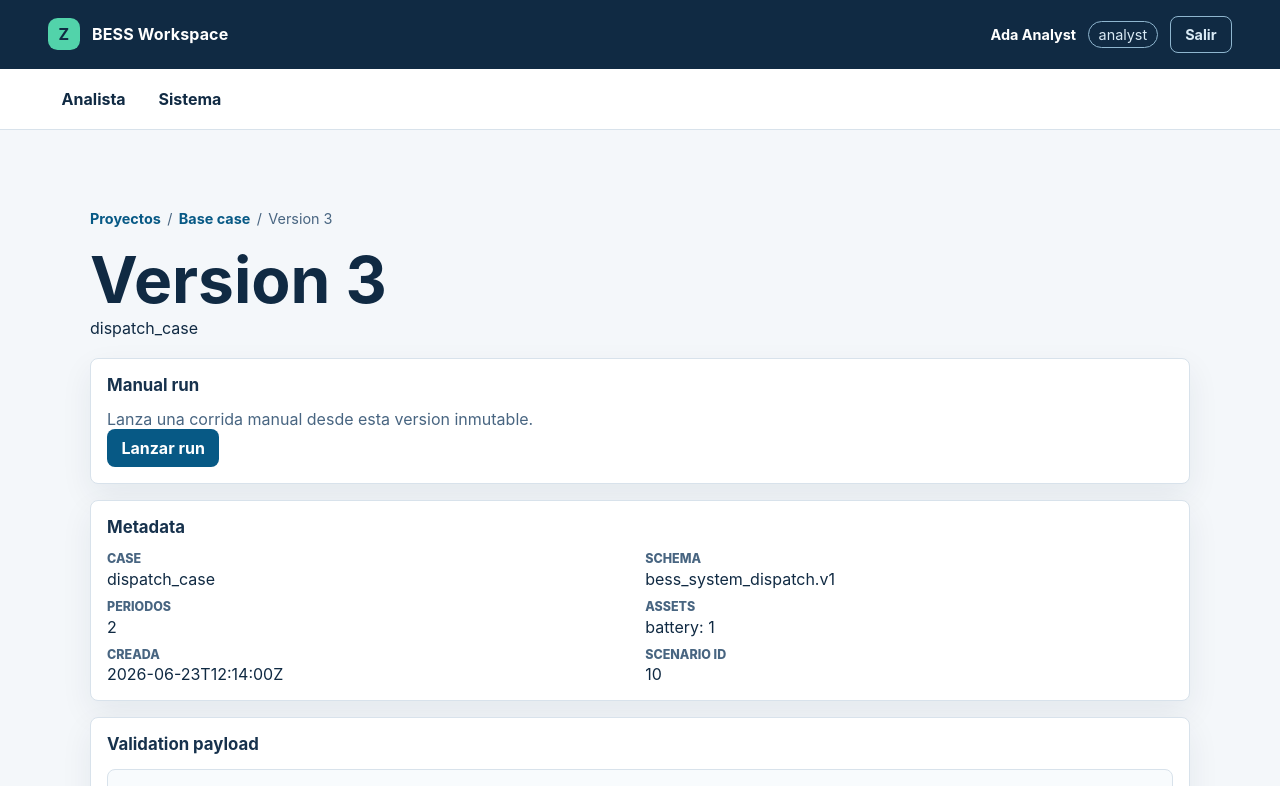
Test case: application shell › launches one manual run from an immutable version and navigates before completion
Check: the heading "Version 3" is shown, box [90,241,387,318]
What coordinates should you click on to do the following:
click the button "Lanzar run"
I would click on:
 (163, 448)
Its box is [107,430,219,467].
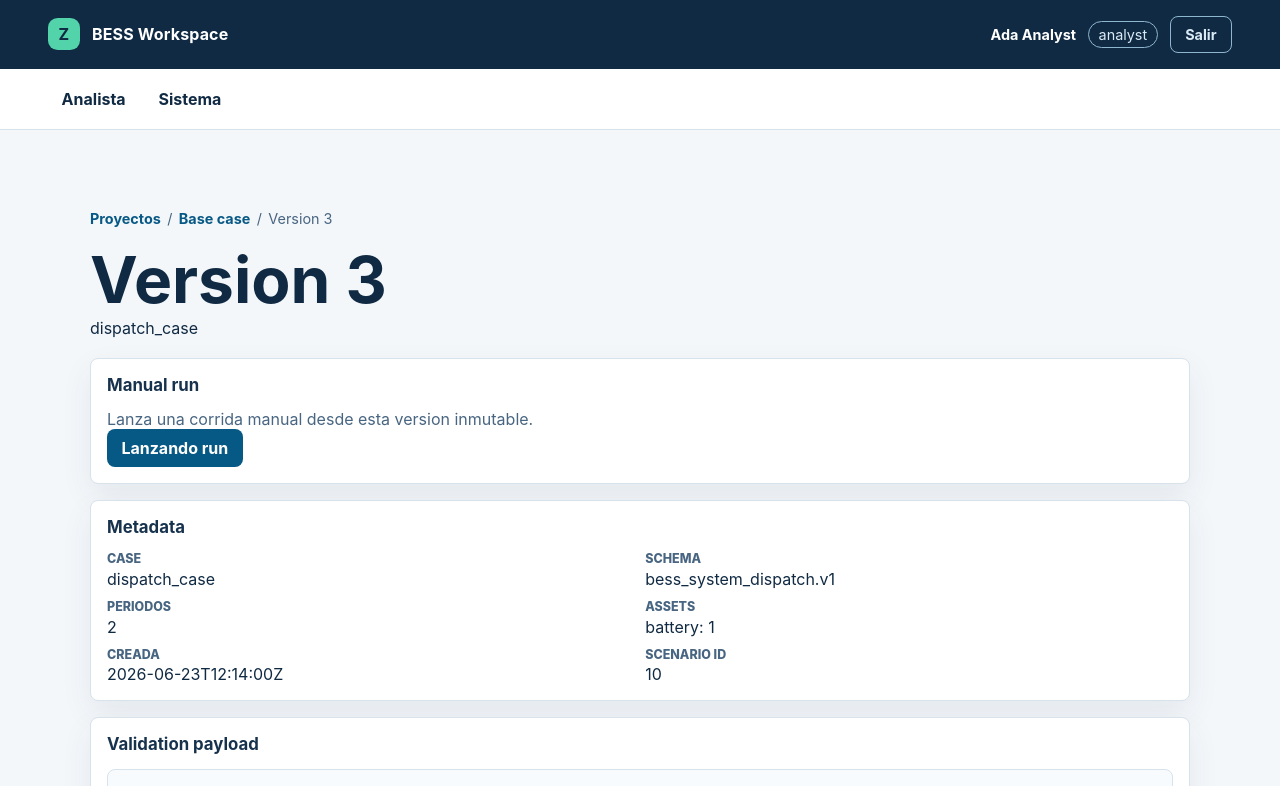
Check: the button named "Lanzar run" is disabled
What coordinates should you click on to do the following:
click the button named "Lanzar run"
I would click on:
 (175, 448)
Its box is [107,430,243,467].
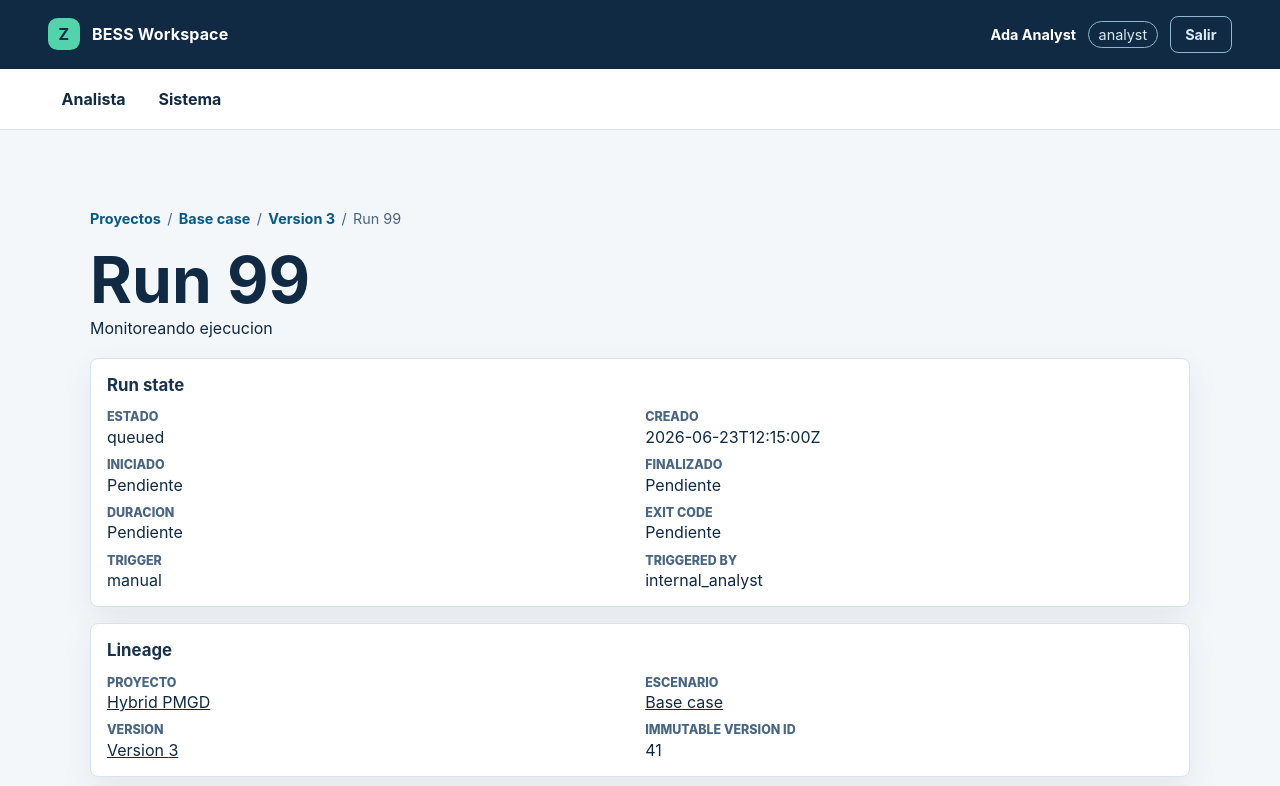
Check: the heading "Run 99" is shown, box [90,241,310,318]
Check: the text "queued" is shown, box [107,427,164,447]
Check: the text "Creado" is shown, box [645,410,699,424]
